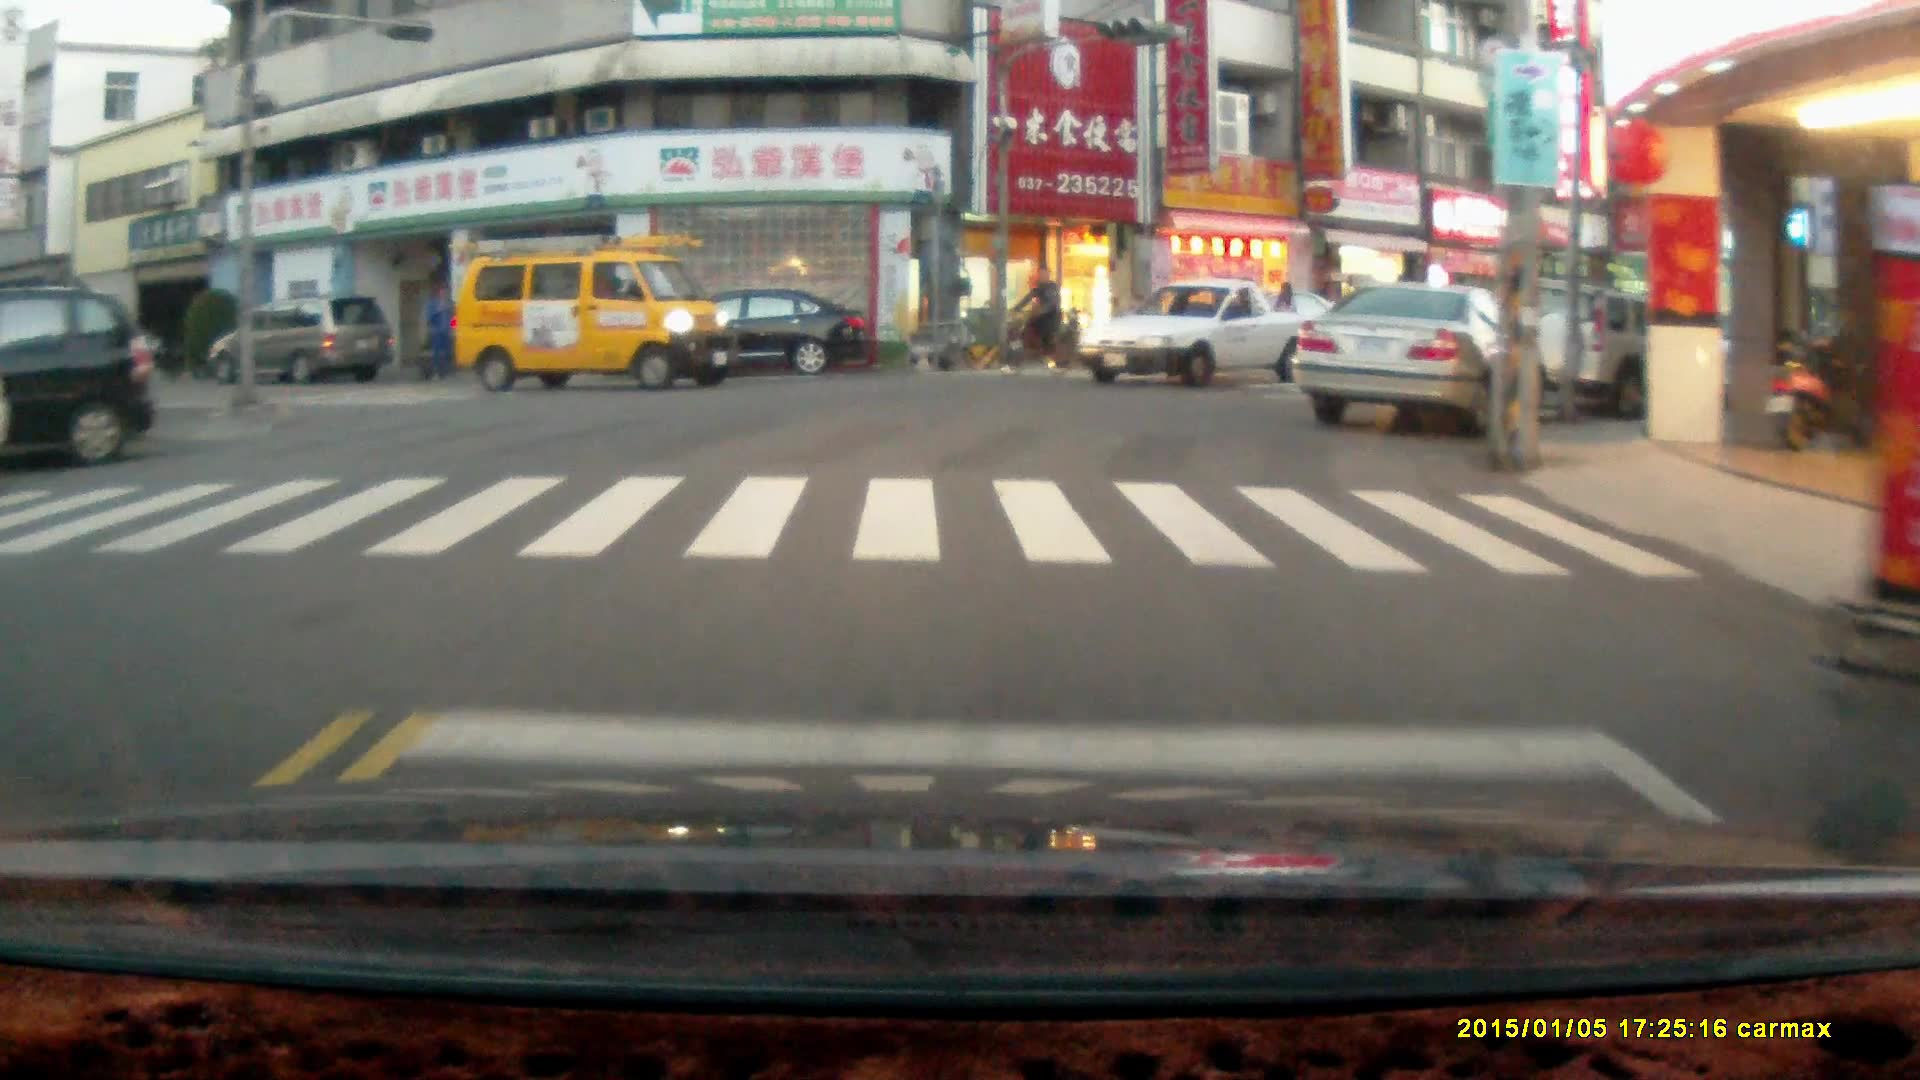pedestrian: (422, 282, 455, 377)
rider: (992, 261, 1072, 377)
vehicle: (455, 234, 728, 396), (1294, 280, 1552, 437), (1494, 284, 1739, 425), (1075, 274, 1332, 395), (2, 286, 157, 466), (647, 296, 872, 383), (207, 294, 397, 391)
